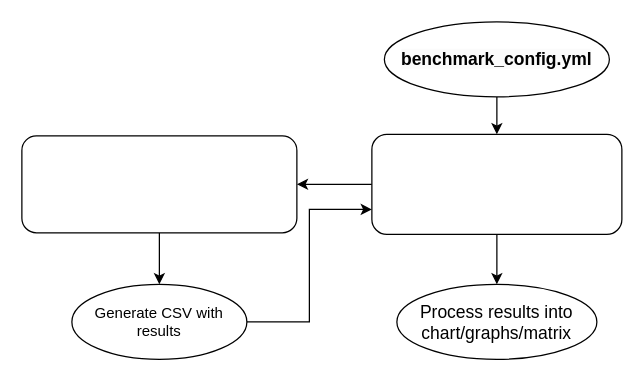
Image size: 644x381. Some labels were removed from this diagram. Here are the shapes that lost their labels. From the top down, the centre of each, then its label:
[159,184]: Micro-benchmark inference benchmark_inference.py
[496,183]: Process benchmark config benchmark_runner.py
